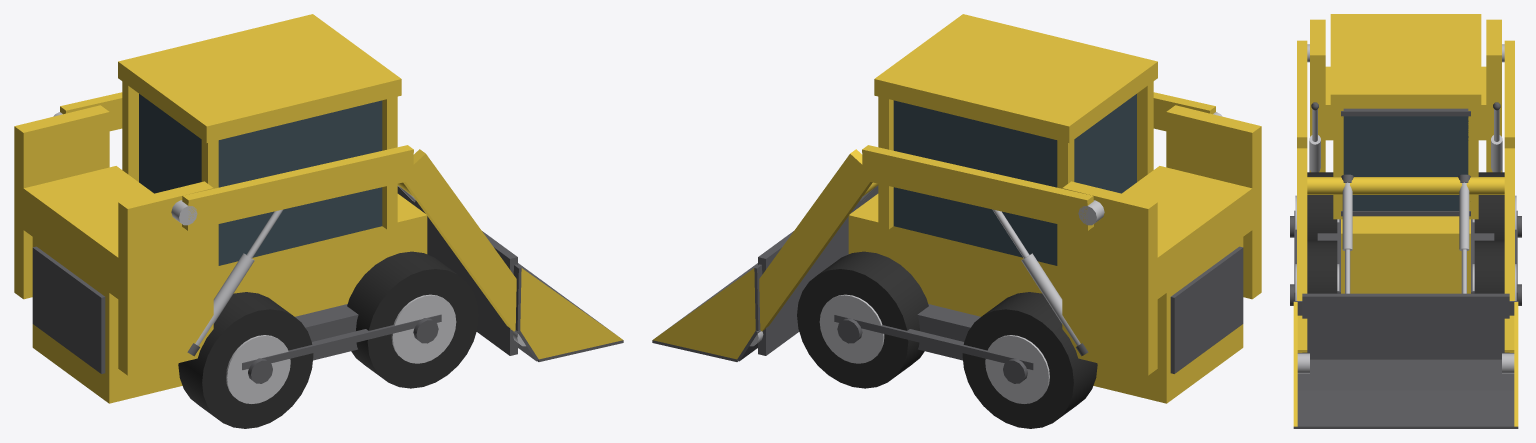
File: SM_SkidSteer.fbx
3 views of the same model, side by side, from view 1: azimuth 30°, elevation 25°; view 2: azimuth 150°, elevation 25°; view 3: azimuth 270°, elevation 25° (orthographic). The views are drawn at different scales.
Parts seen in each view (by area): view 1: SS_Body, SS_LiftArms, SS_Wheel_FR, SS_Wheel_RR, SS_Bucket, SS_LiftCyl_R_Barrel; view 2: SS_Body, SS_LiftArms, SS_Wheel_FL, SS_Wheel_RL, SS_Bucket, SS_LiftCyl_L_Barrel; view 3: SS_Body, SS_Bucket, SS_CabDoor, SS_LiftArms, SS_Wheel_FL, SS_Wheel_FR, SS_Wheel_RL, SS_Wheel_RR, SS_TiltCyl_L_Barrel, SS_TiltCyl_R_Barrel, SS_LiftCyl_L_Barrel, SS_LiftCyl_R_Barrel (+4 smaller).
Boxes of the visible parts, left/top/right/bottom form: SS_Body: left=14, top=14, right=441, bottom=403; SS_LiftArms: left=60, top=92, right=525, bottom=346; SS_Wheel_FR: left=347, top=251, right=478, bottom=388; SS_Wheel_RR: left=178, top=292, right=313, bottom=428; SS_Bucket: left=397, top=186, right=623, bottom=361; SS_LiftCyl_R_Barrel: left=187, top=253, right=254, bottom=356; SS_Body: left=834, top=14, right=1261, bottom=403; SS_LiftArms: left=750, top=92, right=1215, bottom=346; SS_Wheel_FL: left=797, top=251, right=928, bottom=388; SS_Wheel_RL: left=962, top=292, right=1097, bottom=428; SS_Bucket: left=652, top=186, right=878, bottom=361; SS_LiftCyl_L_Barrel: left=1021, top=253, right=1088, bottom=356; SS_Body: left=1294, top=14, right=1517, bottom=298; SS_Bucket: left=1293, top=293, right=1518, bottom=428; SS_CabDoor: left=1341, top=108, right=1470, bottom=216; SS_LiftArms: left=1297, top=40, right=1514, bottom=373; SS_Wheel_FL: left=1472, top=240, right=1521, bottom=305; SS_Wheel_FR: left=1290, top=240, right=1339, bottom=305; SS_Wheel_RL: left=1472, top=172, right=1521, bottom=240; SS_Wheel_RR: left=1290, top=172, right=1339, bottom=240; SS_TiltCyl_L_Barrel: left=1458, top=174, right=1470, bottom=250; SS_TiltCyl_R_Barrel: left=1341, top=174, right=1353, bottom=250; SS_LiftCyl_L_Barrel: left=1491, top=135, right=1502, bottom=172; SS_LiftCyl_R_Barrel: left=1309, top=135, right=1320, bottom=172.
Size of the model in its own units: 370 by 214 by 179.
